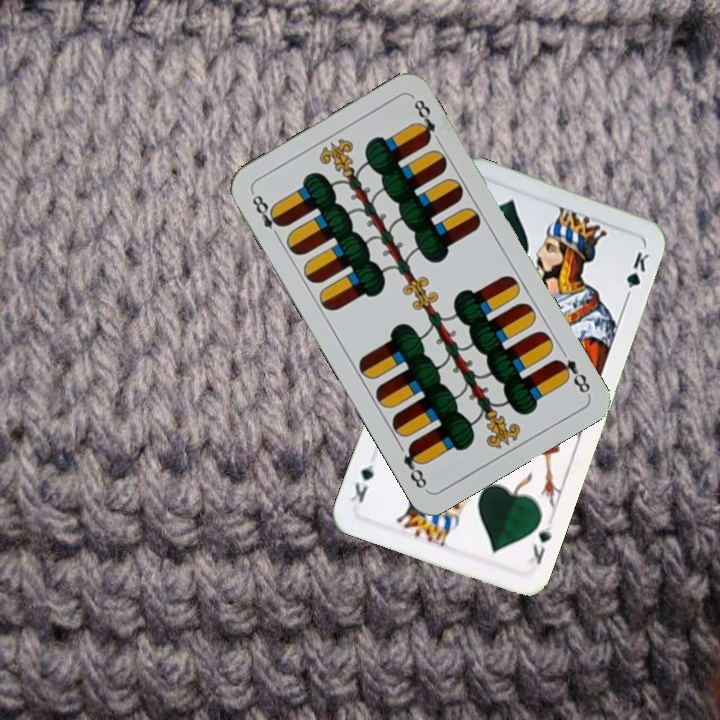E8: (248, 188, 287, 242), (551, 354, 593, 396)
GK: (524, 522, 557, 568)
